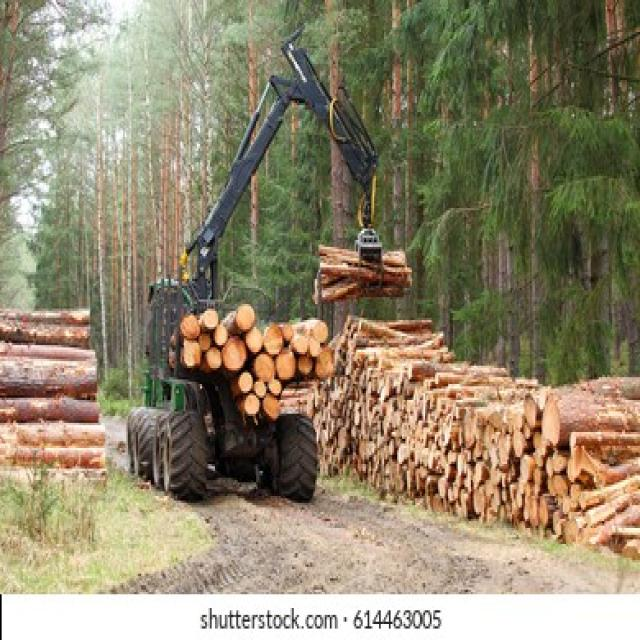Truck: (122, 292, 327, 499)
